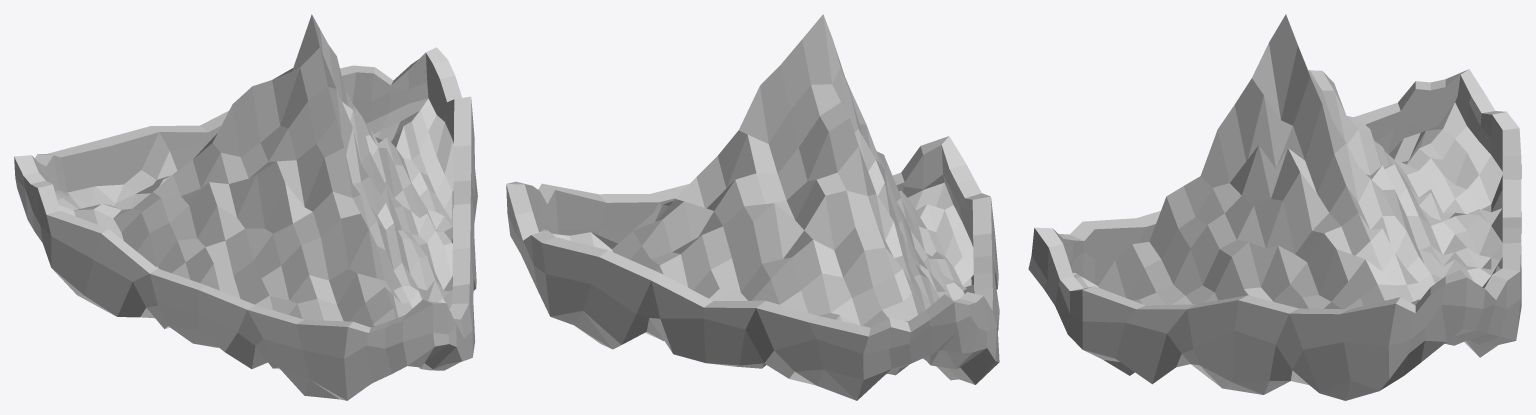
The model's file is Tinfoil_hat.fbx.
3 renders of one model, left to right at view 1: azimuth 30°, elevation 25°; view 2: azimuth 150°, elevation 25°; view 3: azimuth 270°, elevation 25°, orthographic. The views are drawn at different scales.
Visible parts, largest first — view 1: Thinfoil-head; view 2: Thinfoil-head; view 3: Thinfoil-head.
Part boxes in pixels (<box>): Thinfoil-head: <box>14,14,477,400</box>; Thinfoil-head: <box>506,14,999,400</box>; Thinfoil-head: <box>1028,14,1521,400</box>.
Size of the model in its own units: 27.85 by 19.82 by 26.66.
